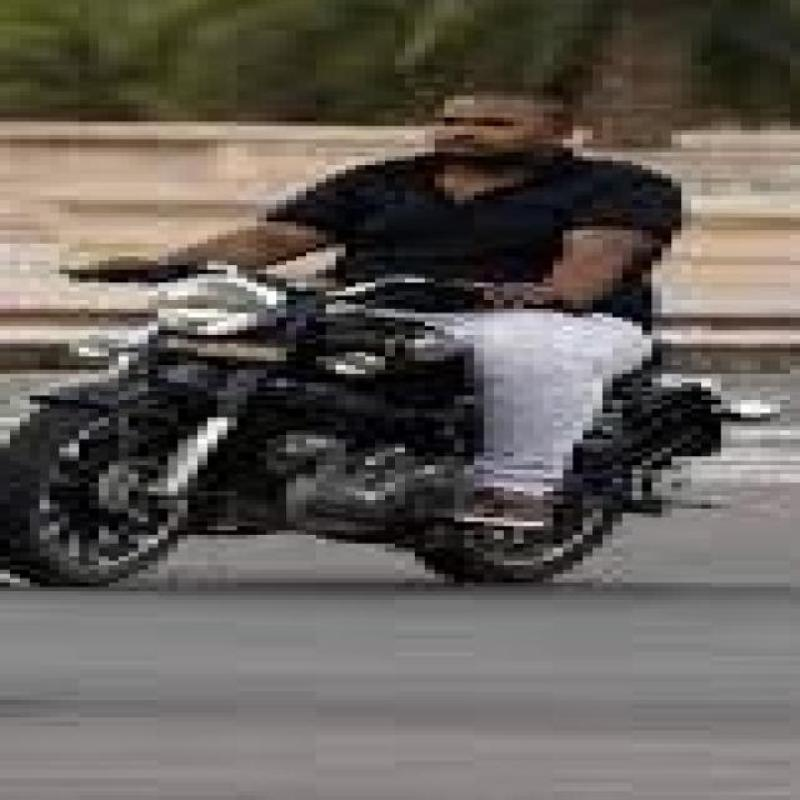nohelmet: (412, 72, 582, 174)
